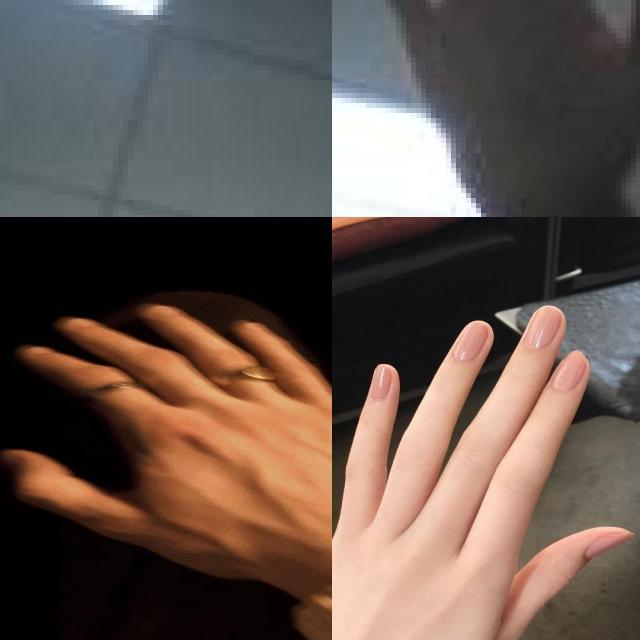hand: (332, 304, 633, 640), (1, 302, 332, 599), (356, 0, 640, 217)
